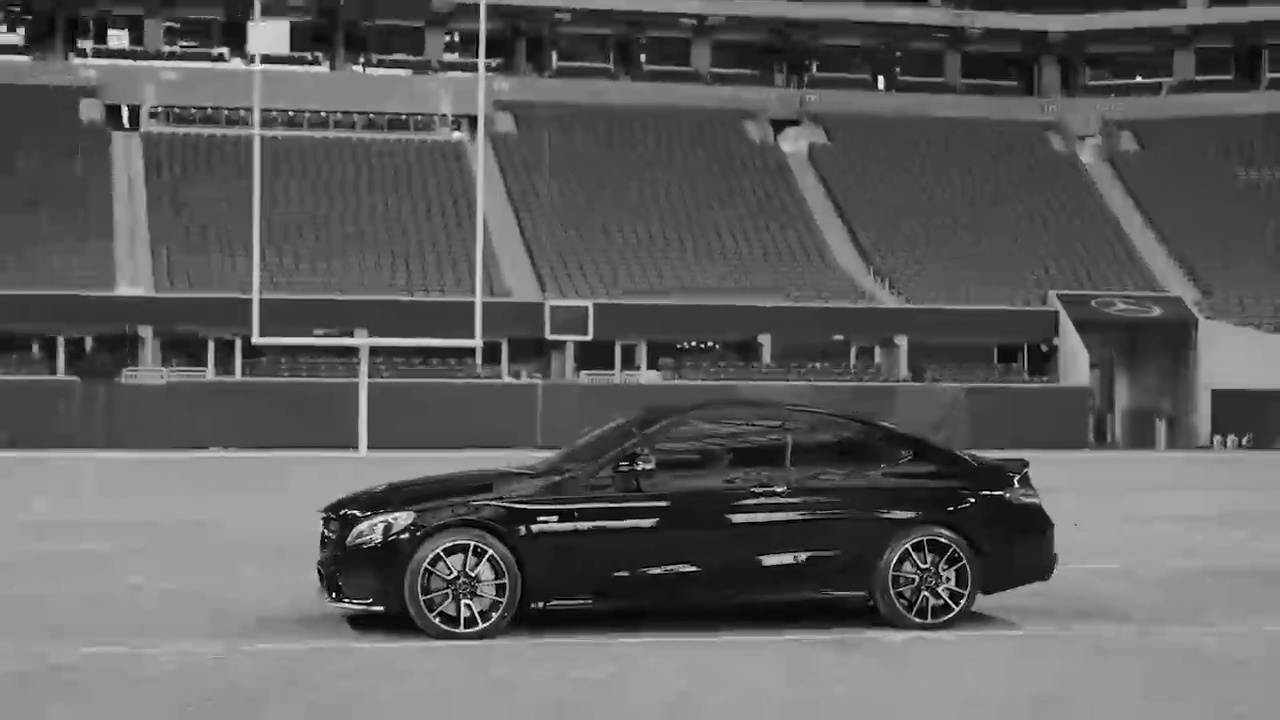car: (308, 396, 1060, 636)
